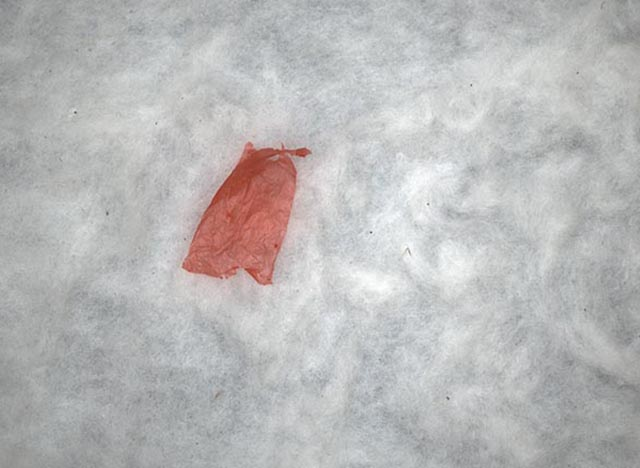plastic film: (179, 139, 313, 284)
